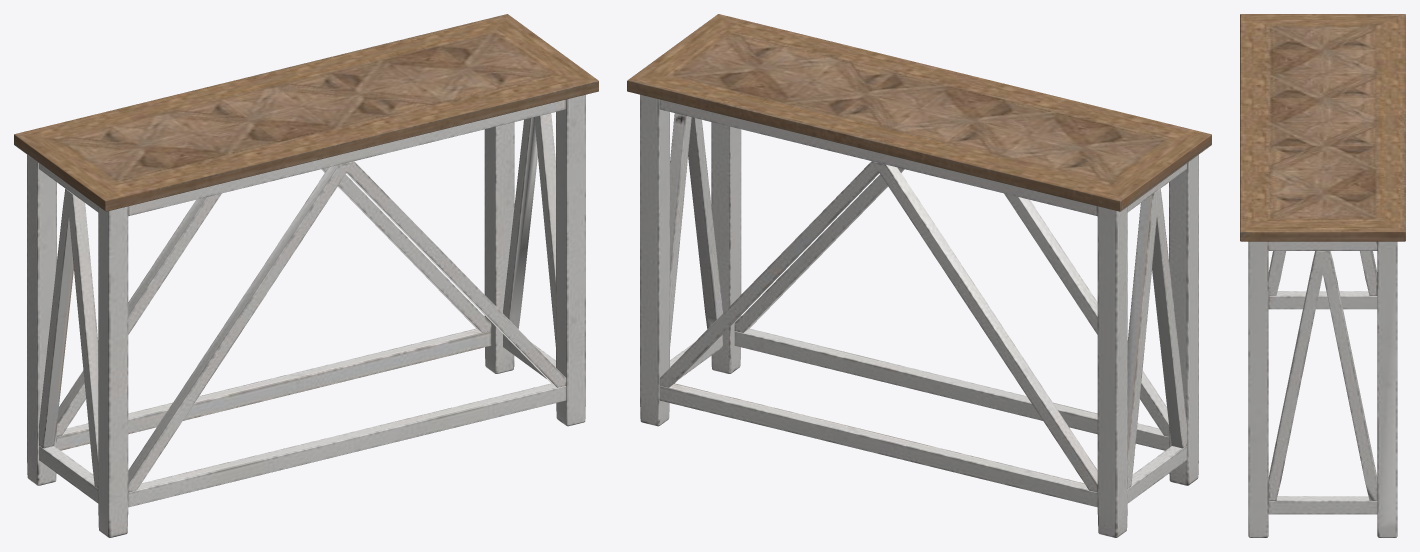
3 views of the same model, side by side, from view 1: azimuth 30°, elevation 25°; view 2: azimuth 150°, elevation 25°; view 3: azimuth 270°, elevation 25° (orthographic). The views are drawn at different scales.
Visible parts, largest first — view 1: RootNode; view 2: RootNode; view 3: RootNode.
Boxes of the visible parts, x1=… form: RootNode: x1=14, y1=14, x2=598, y2=537; RootNode: x1=627, y1=14, x2=1211, y2=537; RootNode: x1=1240, y1=14, x2=1405, y2=537.
Bounding box in the file's own units: 1.4 × 0.932 × 0.4508.
Materials: 1 (1 with a texture image).
